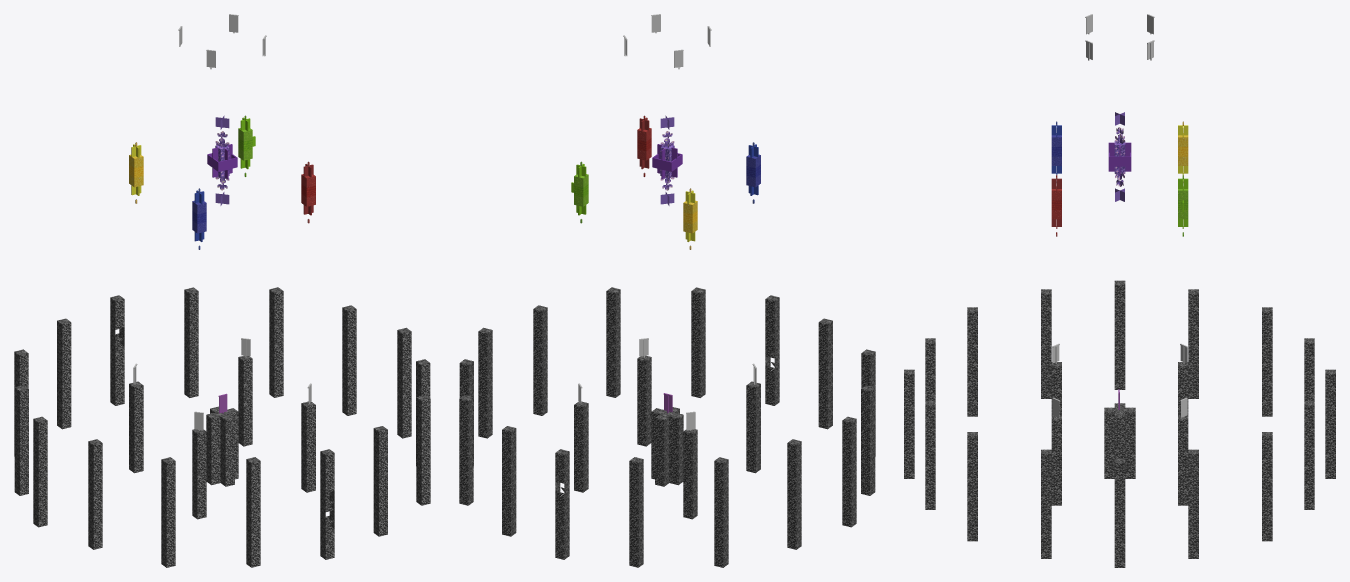
Rendered from minecraft.obj.
The picture shows the model from 3 angles, left to right: view 1: azimuth 30°, elevation 25°; view 2: azimuth 150°, elevation 25°; view 3: azimuth 270°, elevation 25°; orthographic projection.
Size of the model in its own units: 41 by 46.96 by 41.
